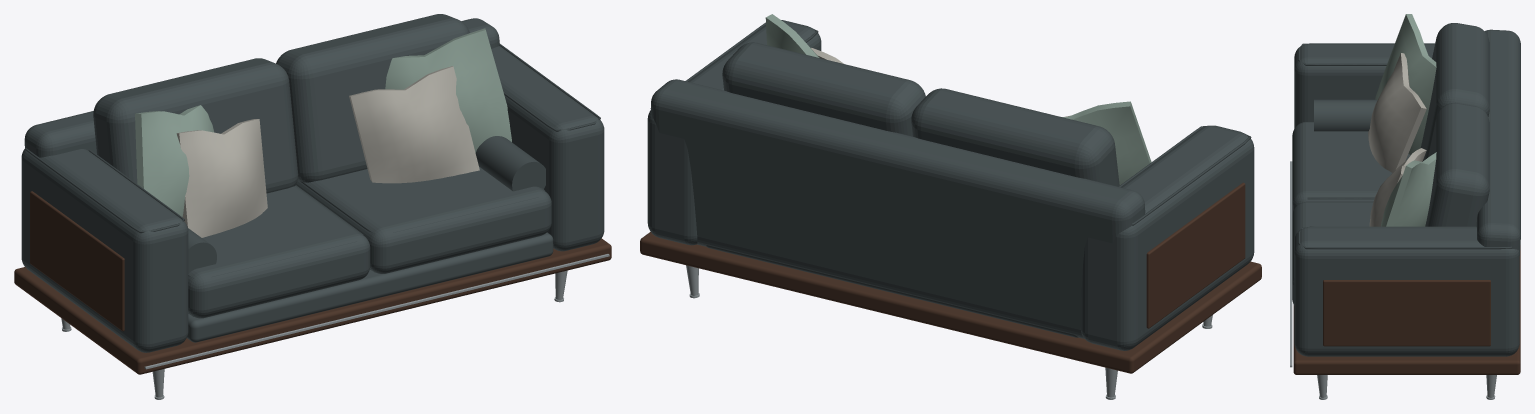
File: milano-graphite-2.glb
The picture shows the model from 3 angles, left to right: view 1: azimuth 30°, elevation 25°; view 2: azimuth 150°, elevation 25°; view 3: azimuth 270°, elevation 25°; orthographic projection. The views are drawn at different scales.
Size of the model in its own units: 1.7 by 0.8344 by 0.7932.
